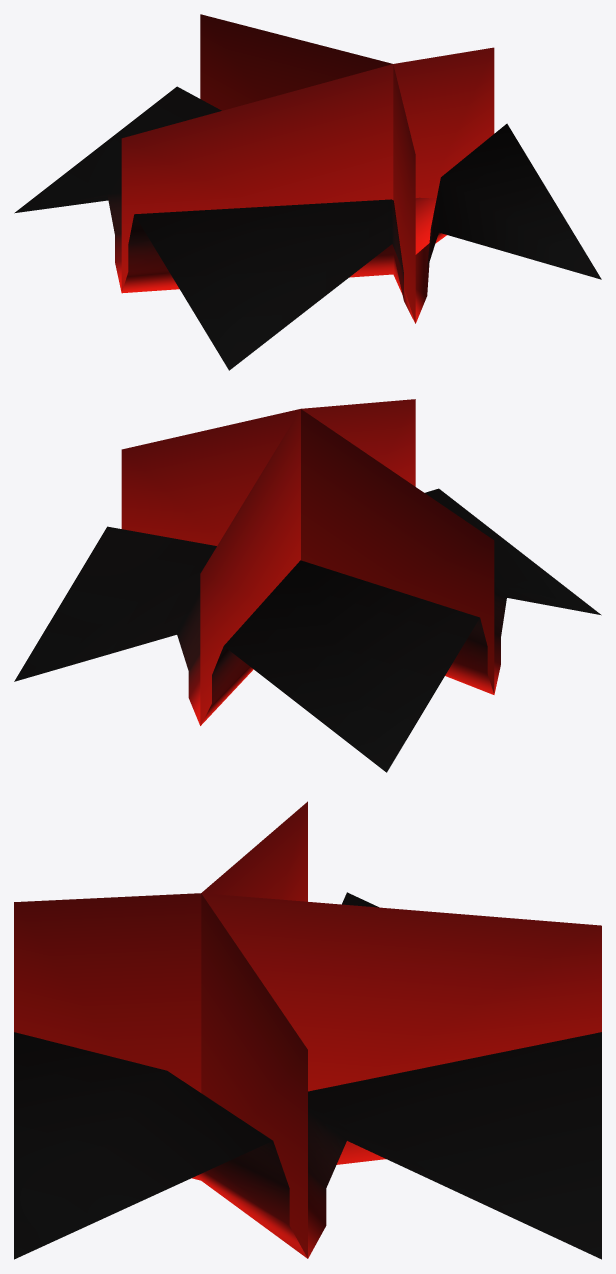
The picture shows the model from 3 angles, top to bottom: view 1: azimuth 30°, elevation 25°; view 2: azimuth 150°, elevation 25°; view 3: azimuth 270°, elevation 25°; orthographic projection. The views are drawn at different scales.
Visible parts, largest first — view 1: 9266; view 2: 9266; view 3: 9266.
Boxes of the visible parts, box(x1,y1,x2,y2) form: 9266: box(14, 14, 601, 370); 9266: box(14, 399, 601, 772); 9266: box(14, 801, 601, 1259).
Bounding box in the file's own units: 128 × 69.07 × 128.
